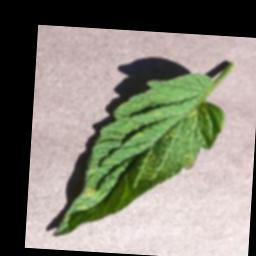Leaf_Mold: (82, 184, 99, 198)
